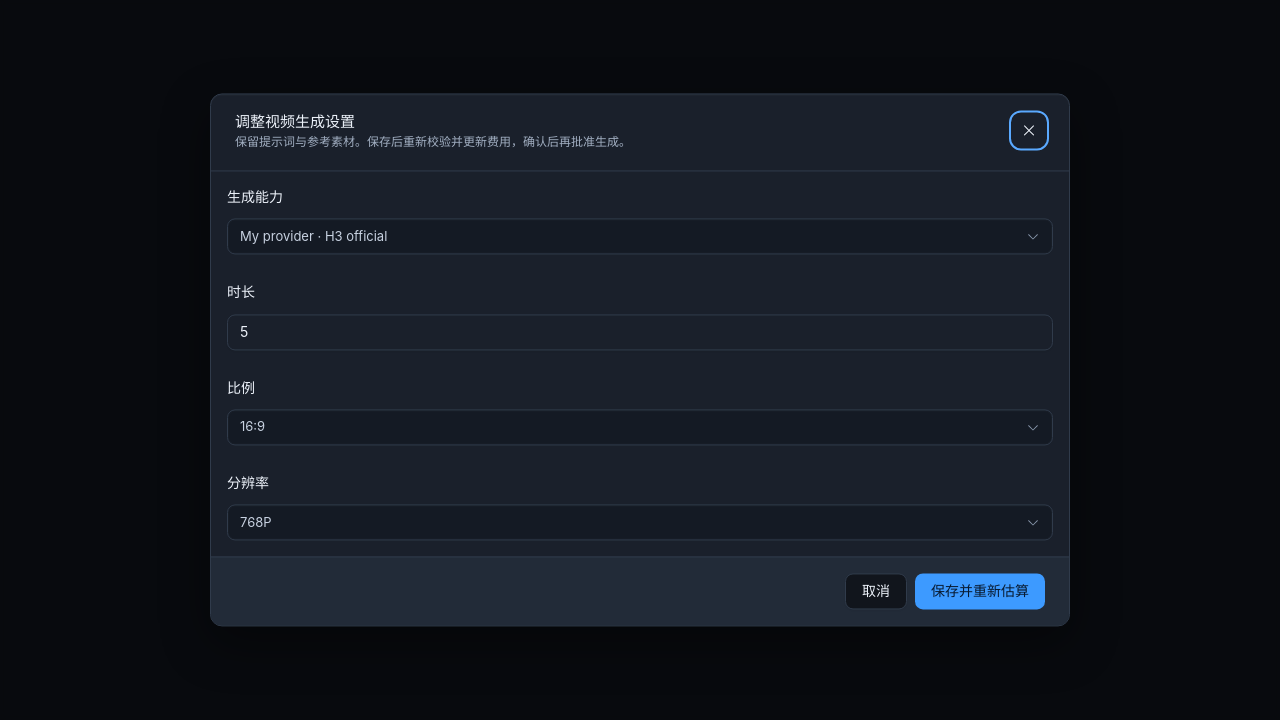
Test: pending video approval settings › refuses a provider switch that would drop reference material
Click the dropdown named "生成能力".
click(314, 236)  # box top-left (227, 219), bottom-right (1053, 255)
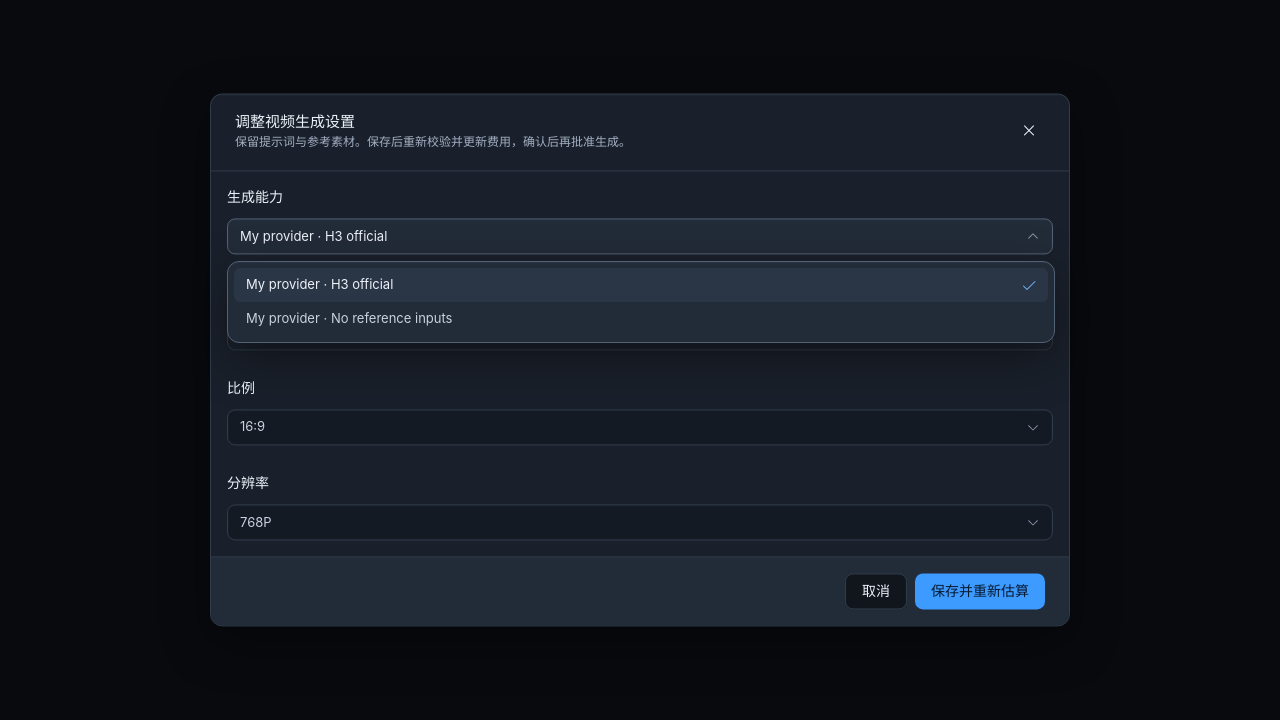
Click the option "My provider · No reference inputs".
click(349, 318)  # box top-left (246, 310), bottom-right (452, 326)
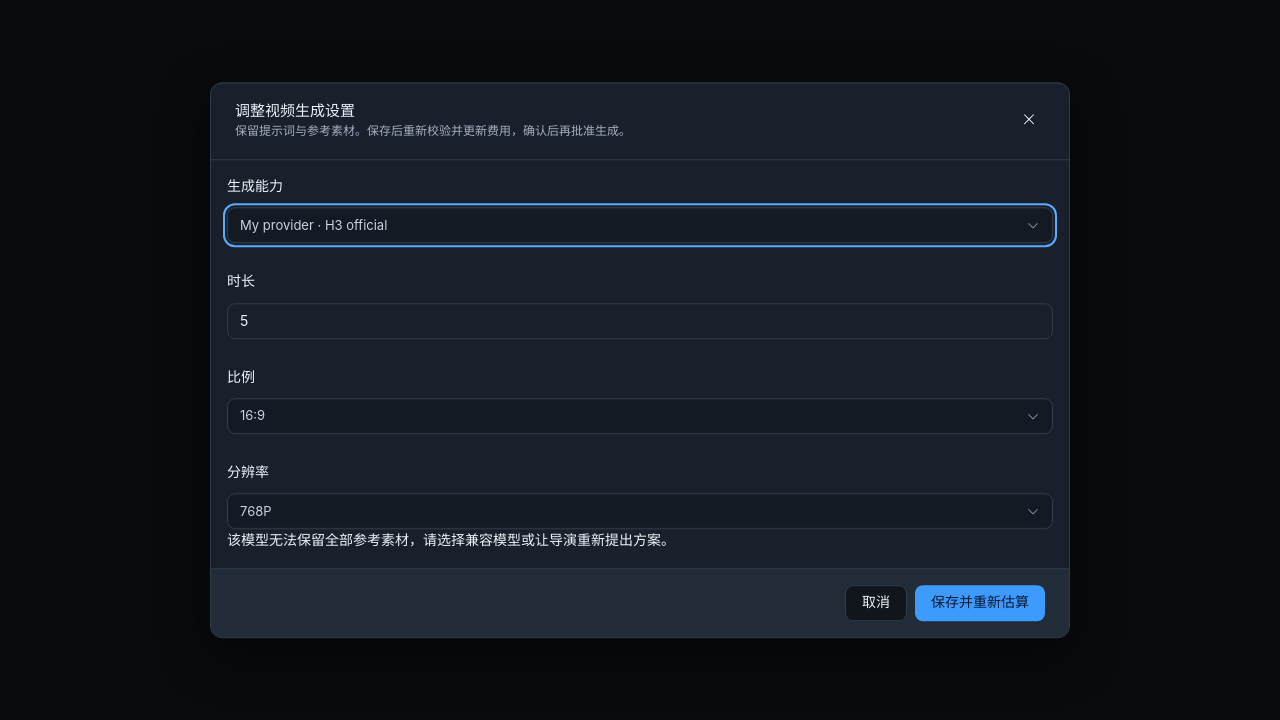
Expected: the dropdown named "生成能力" shows "H3 official", top-left (227, 208), bottom-right (1053, 244)
Expected: the message shows "无法保留全部参考素材", top-left (227, 531), bottom-right (675, 548)
